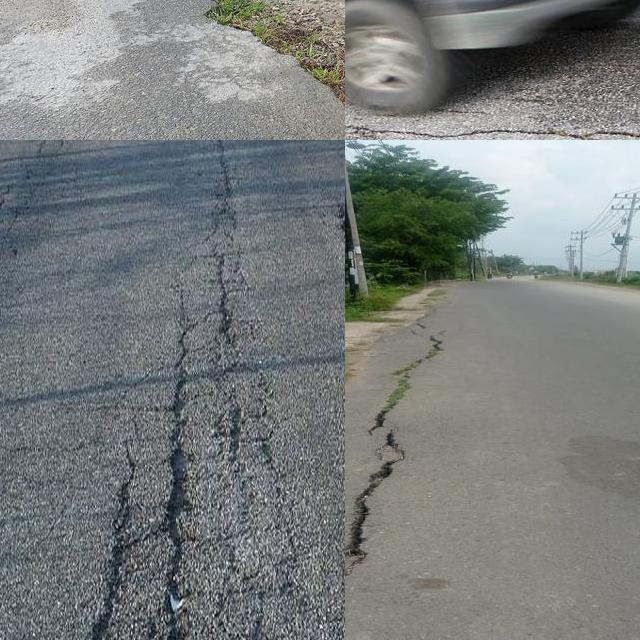Memanjang: (345, 314, 457, 596), (152, 295, 198, 640), (205, 140, 254, 341)
Pinggir: (179, 0, 345, 140)
